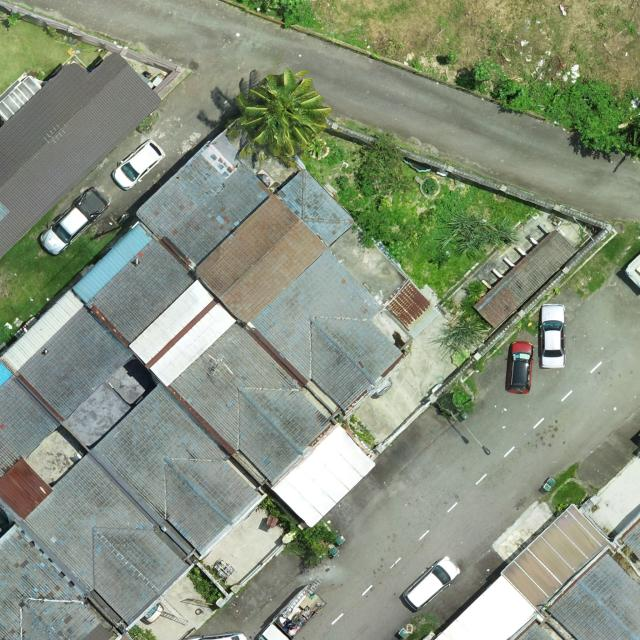tree: (225, 68, 332, 173), (566, 80, 638, 154), (336, 178, 401, 250), (435, 207, 520, 260), (351, 132, 410, 195), (432, 314, 489, 360), (385, 240, 409, 264), (472, 60, 492, 83)
